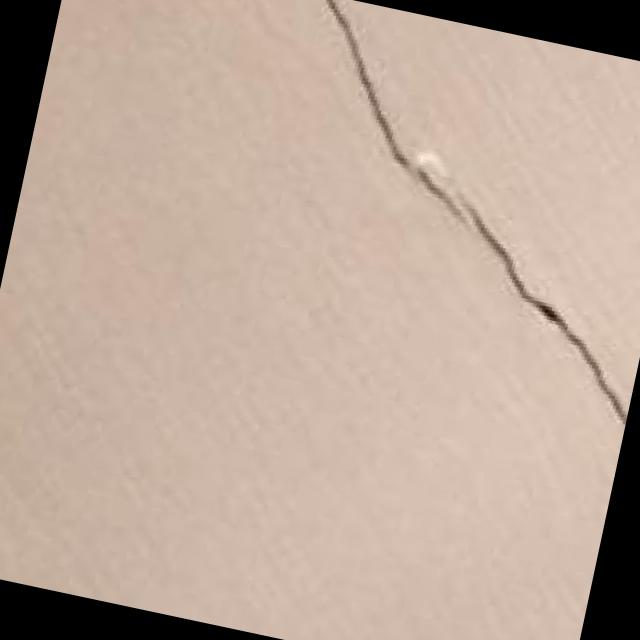crack: (242, 0, 640, 456)
